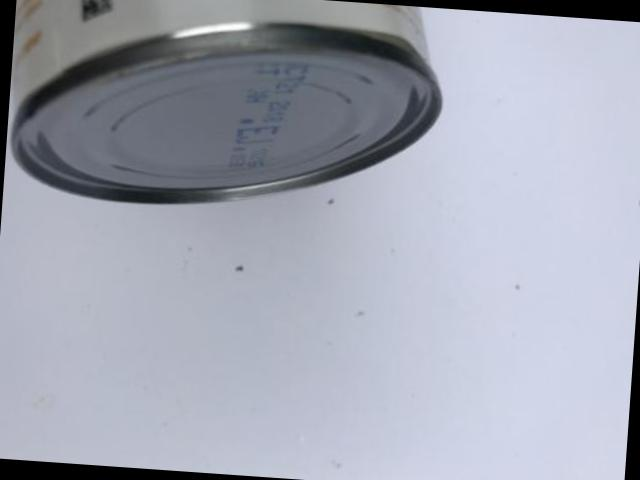metal: (12, 0, 441, 205)
